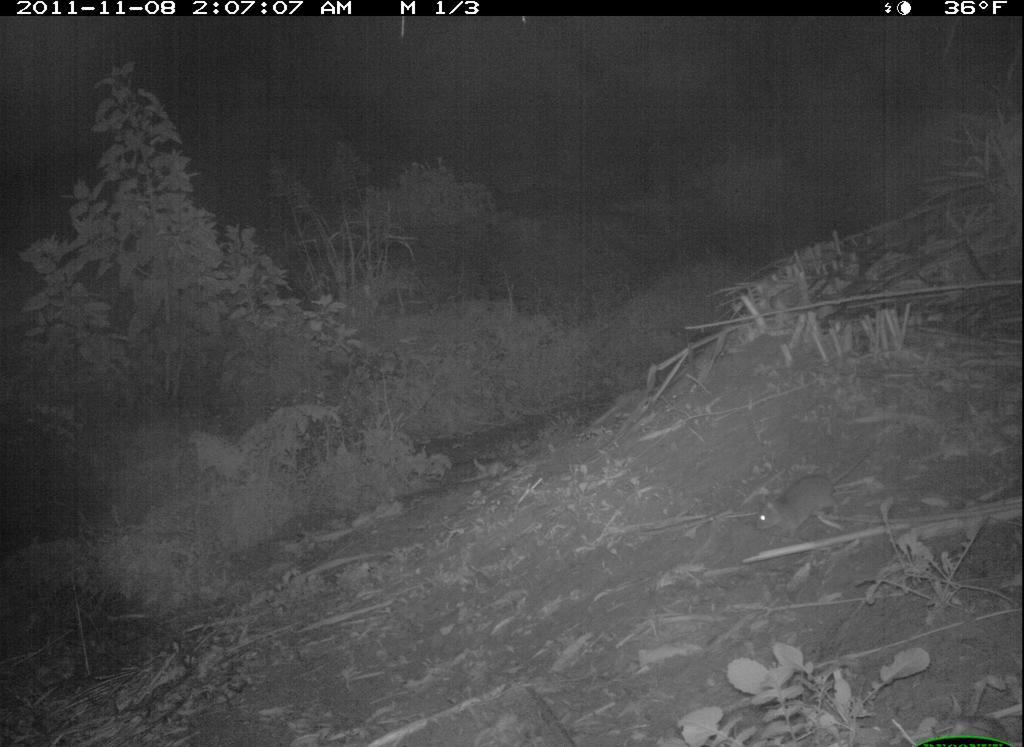rodent: (757, 445, 879, 536)
